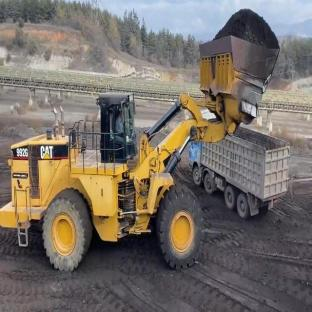ExcavationMachinery: (27, 72, 183, 264)
Vehicle: (197, 104, 300, 225)
